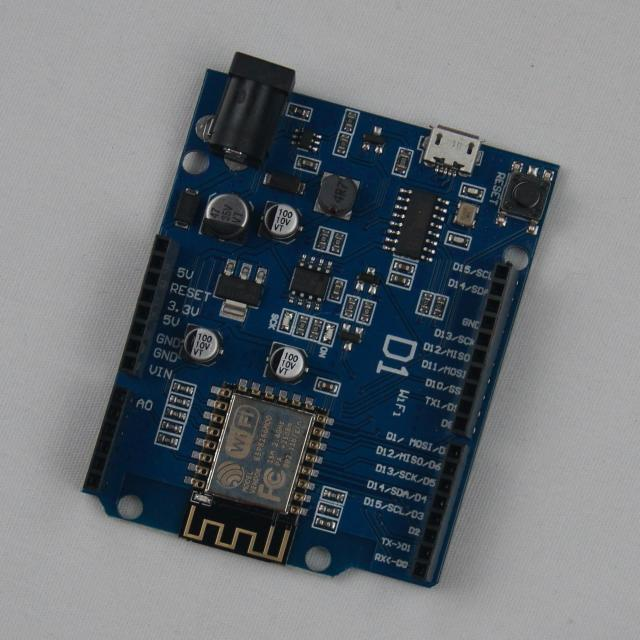Arduino Uno WiFi Shield: (84, 54, 559, 587)
